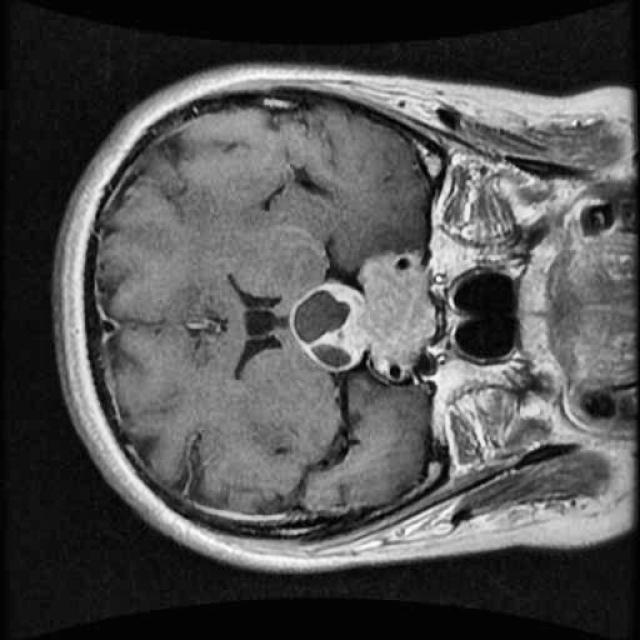Tumor: (281, 238, 456, 396)
